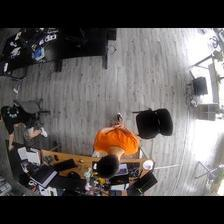normal: (93, 110, 139, 176), (1, 102, 47, 149)
